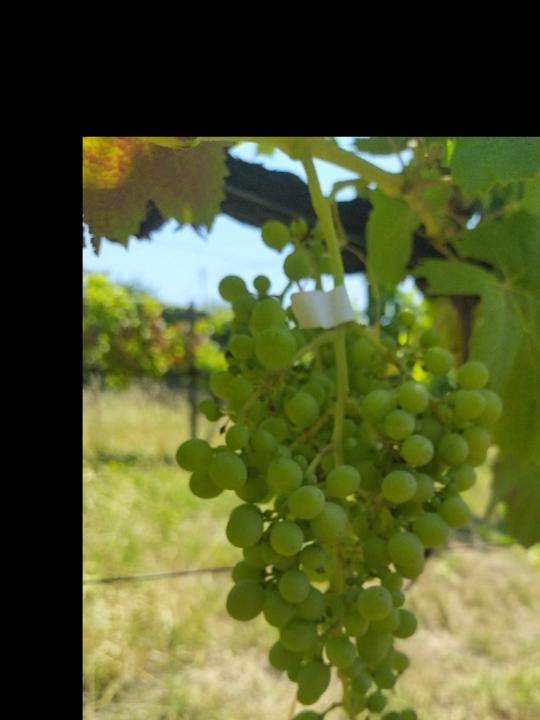grape: (175, 275, 506, 720)
